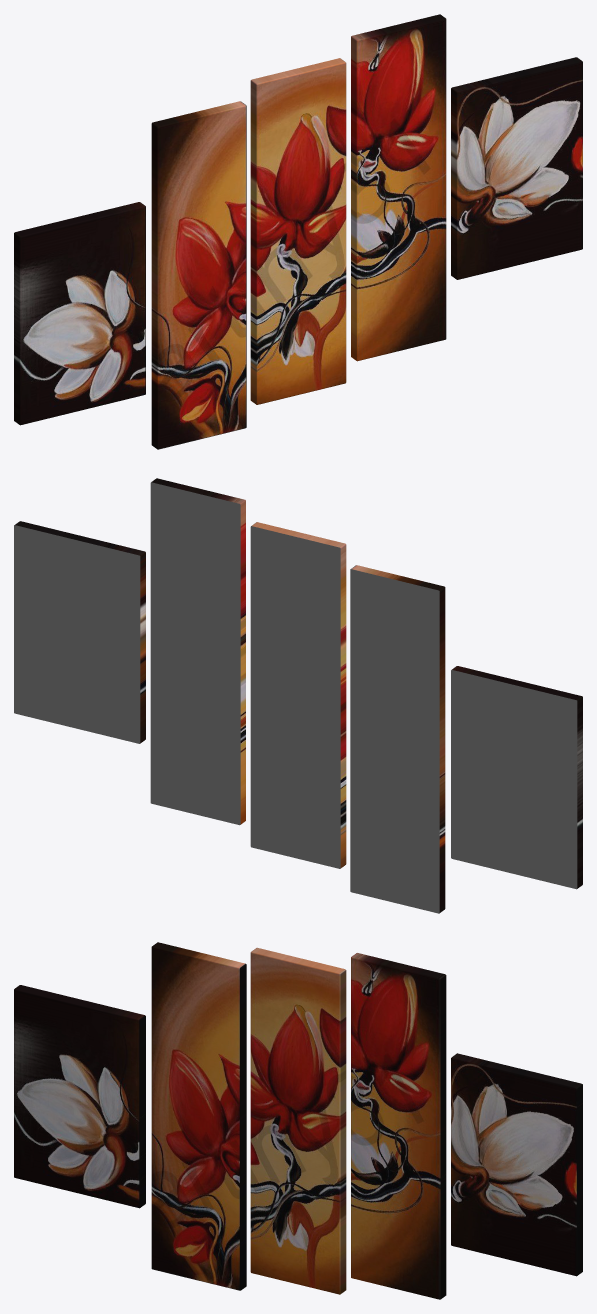
File: Quadros_B 1.FBX
3 views of the same model, one above another, from view 1: azimuth 30°, elevation 25°; view 2: azimuth 150°, elevation 25°; view 3: azimuth 330°, elevation 25° (orthographic).
Parts seen in each view (by area): view 1: Красные бутоны; view 2: Красные бутоны; view 3: Красные бутоны.
Part boxes in pixels (<box>): Красные бутоны: <box>14,14,582,449</box>; Красные бутоны: <box>14,478,582,913</box>; Красные бутоны: <box>14,942,582,1299</box>.
Size of the model in its own units: 9.75 by 5.98 by 0.1792.
Materials: 2 (1 with a texture image).
